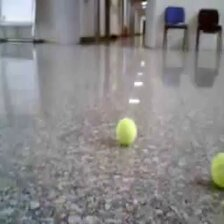tennis: (115, 117, 137, 145), (210, 151, 224, 187)
